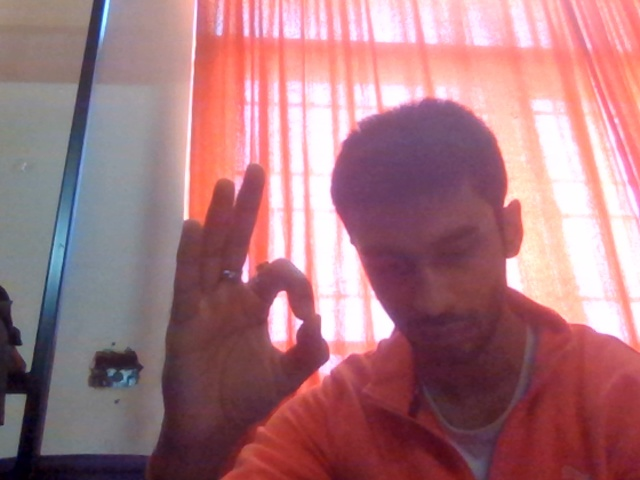F: (138, 166, 342, 478)
